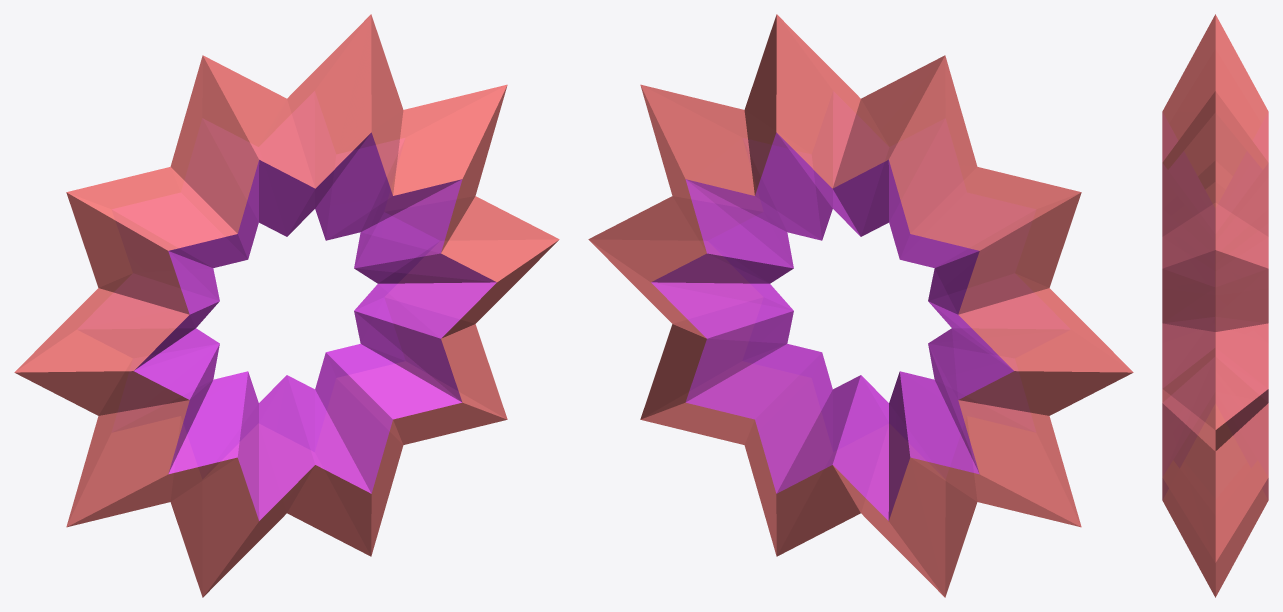
The model's file is Regular10TetragonalStarToroid.obj.
3 renders of one model, left to right at view 1: azimuth 30°, elevation 25°; view 2: azimuth 150°, elevation 25°; view 3: azimuth 270°, elevation 25°, orthographic. The views are drawn at different scales.
Size of the model in its own units: 3.88 by 3.69 by 0.7.
